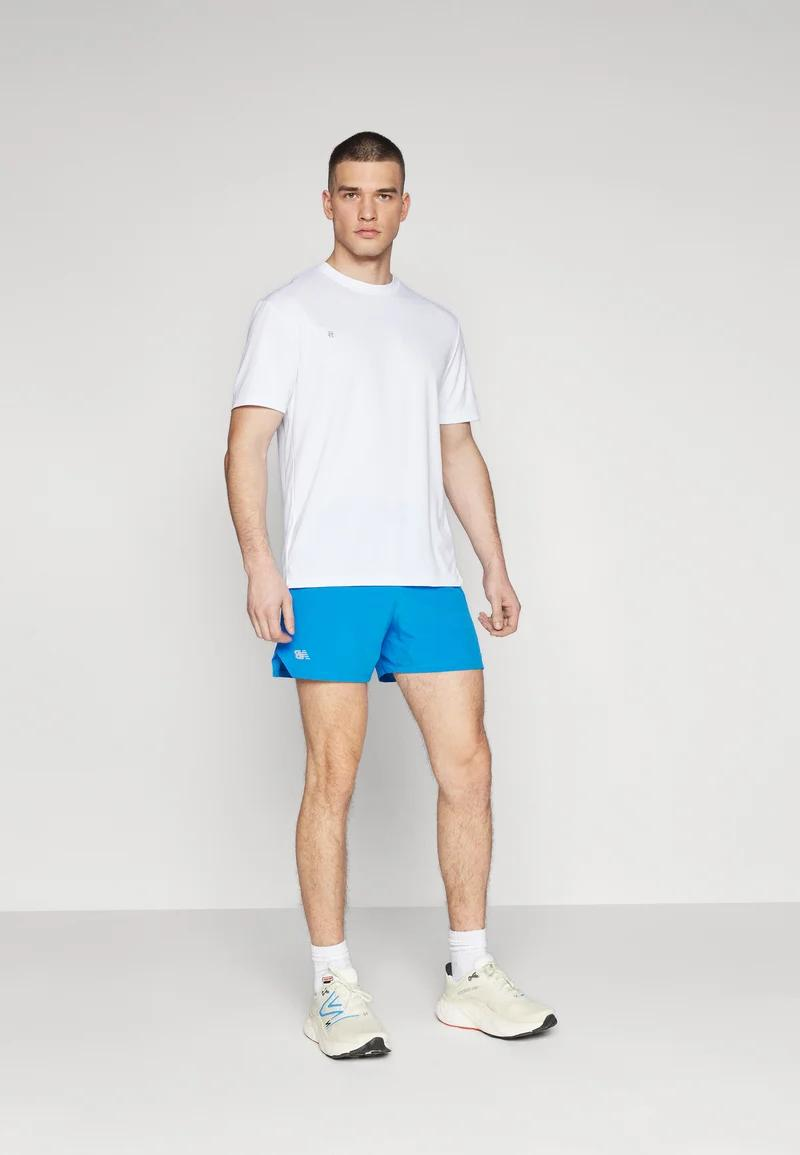Shorts: (259, 582, 490, 685)
short sleeve shirt: (230, 263, 484, 591)
